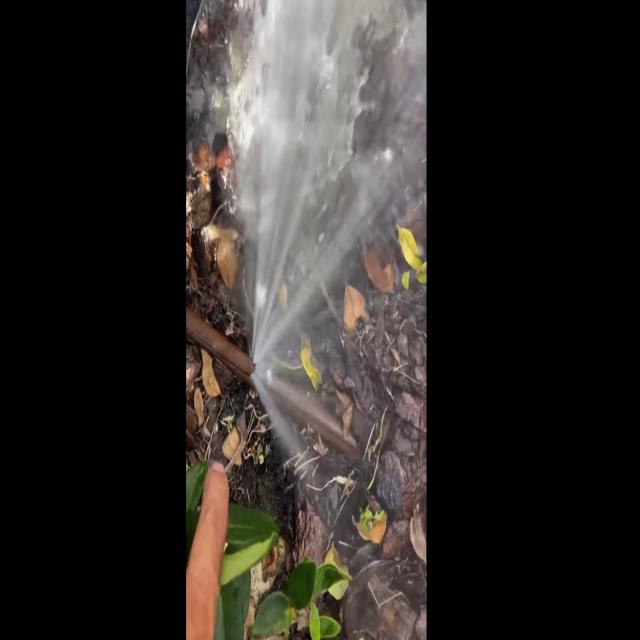leak: (231, 0, 426, 612)
